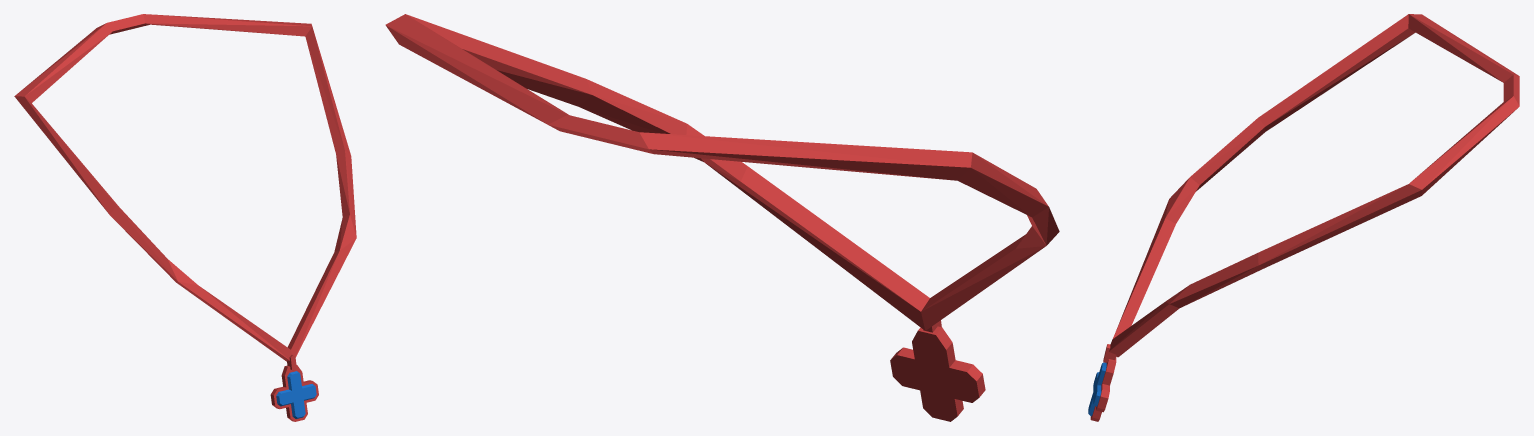
File: SM_necklace_6.fbx
3 views of the same model, side by side, from view 1: azimuth 30°, elevation 25°; view 2: azimuth 150°, elevation 25°; view 3: azimuth 270°, elevation 25° (orthographic). The views are drawn at different scales.
Visible parts, largest first — view 1: Symmetry_11; view 2: Symmetry_11; view 3: Symmetry_11.
Boxes of the visible parts, bbox=[...] form: Symmetry_11: bbox=[14, 14, 356, 421]; Symmetry_11: bbox=[385, 14, 1059, 421]; Symmetry_11: bbox=[1088, 14, 1519, 421].
Size of the model in its own units: 22 by 19.52 by 22.86.
